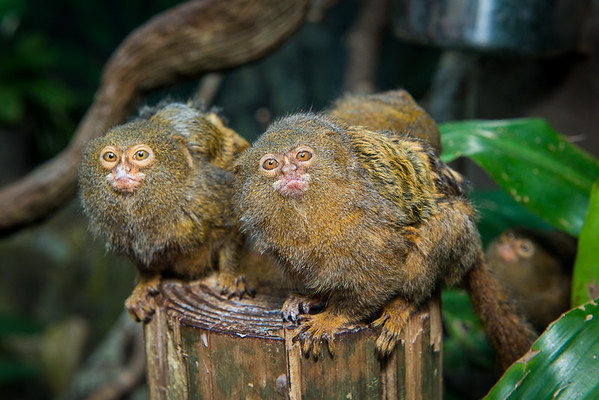PygmyMarmoset: (250, 125, 457, 293), (71, 120, 248, 266), (485, 227, 575, 305)
